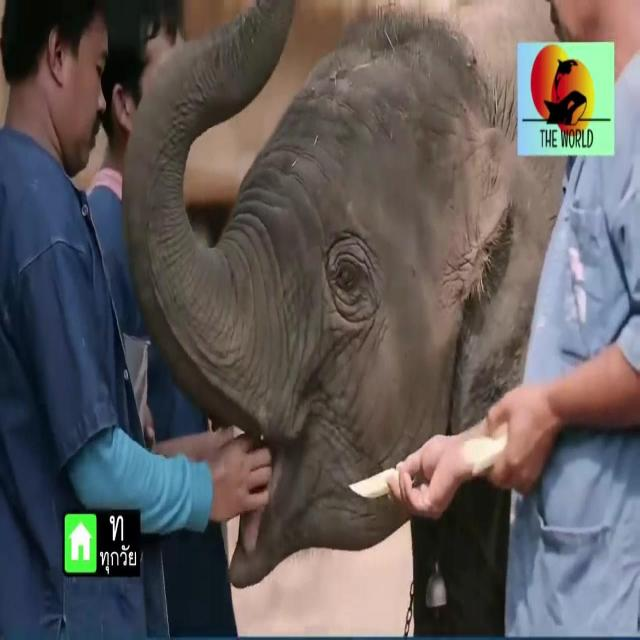Elephant: (130, 15, 507, 538)
